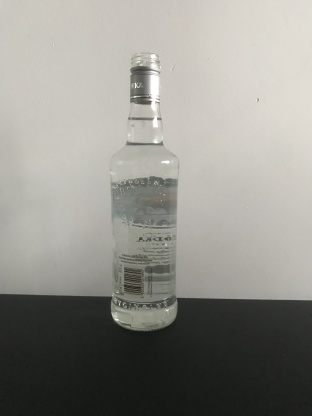nakretka: (128, 50, 162, 106)
